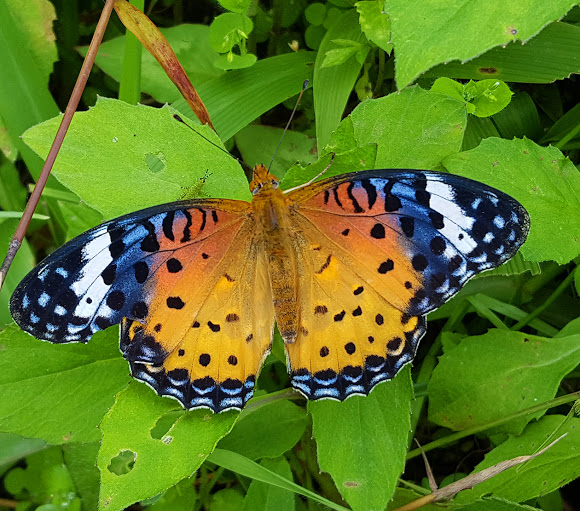Argyreus hyperbius: (9, 72, 539, 411)
butterfly: (11, 74, 541, 413)
